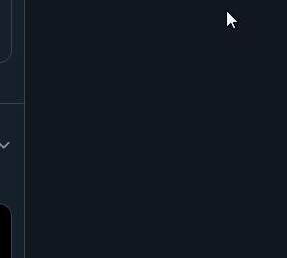cursor: (225, 10, 238, 30)
